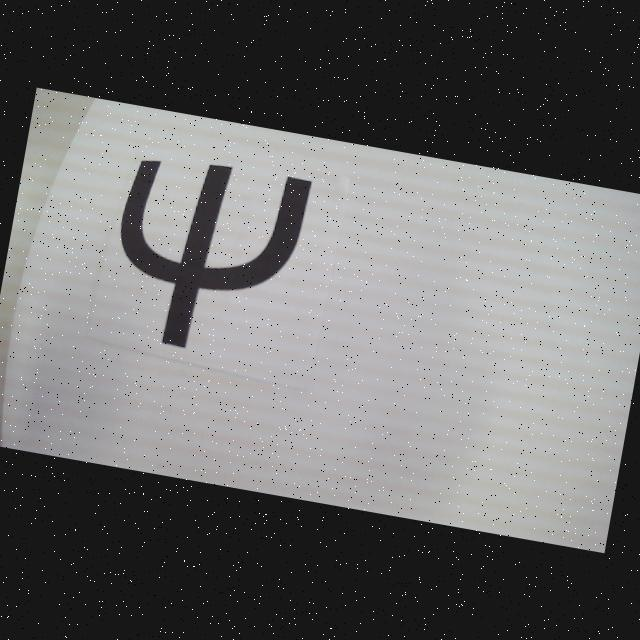PSI: (101, 148, 313, 366)
